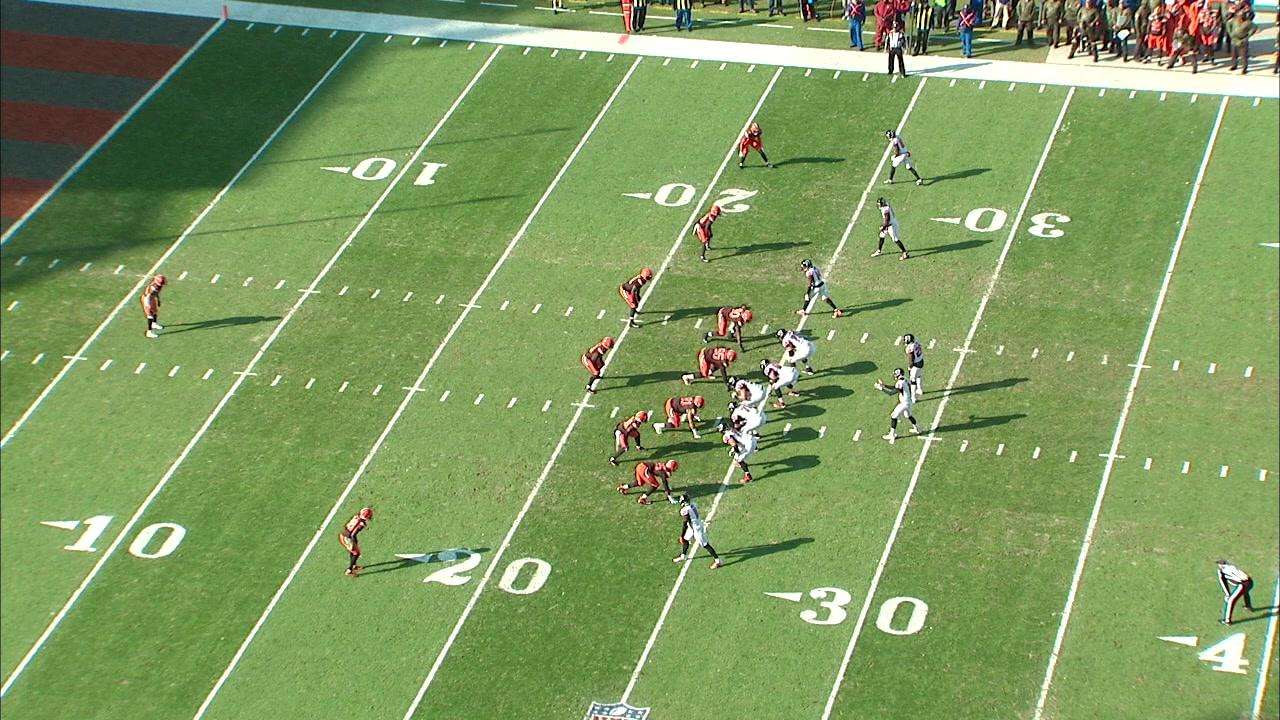player: (675, 492, 722, 571), (874, 369, 924, 442), (621, 458, 681, 510), (340, 505, 376, 580), (617, 266, 654, 337), (801, 259, 843, 319), (870, 198, 911, 259), (605, 411, 648, 467), (653, 395, 709, 437), (884, 125, 924, 182), (719, 425, 755, 487), (683, 347, 737, 387), (692, 201, 724, 267), (706, 303, 755, 344), (774, 327, 815, 376), (141, 271, 170, 340), (580, 336, 613, 395), (903, 330, 929, 400), (762, 361, 802, 406), (737, 123, 772, 172), (730, 400, 765, 434), (728, 374, 765, 406)
ref: (1215, 556, 1252, 626), (882, 22, 911, 78)
